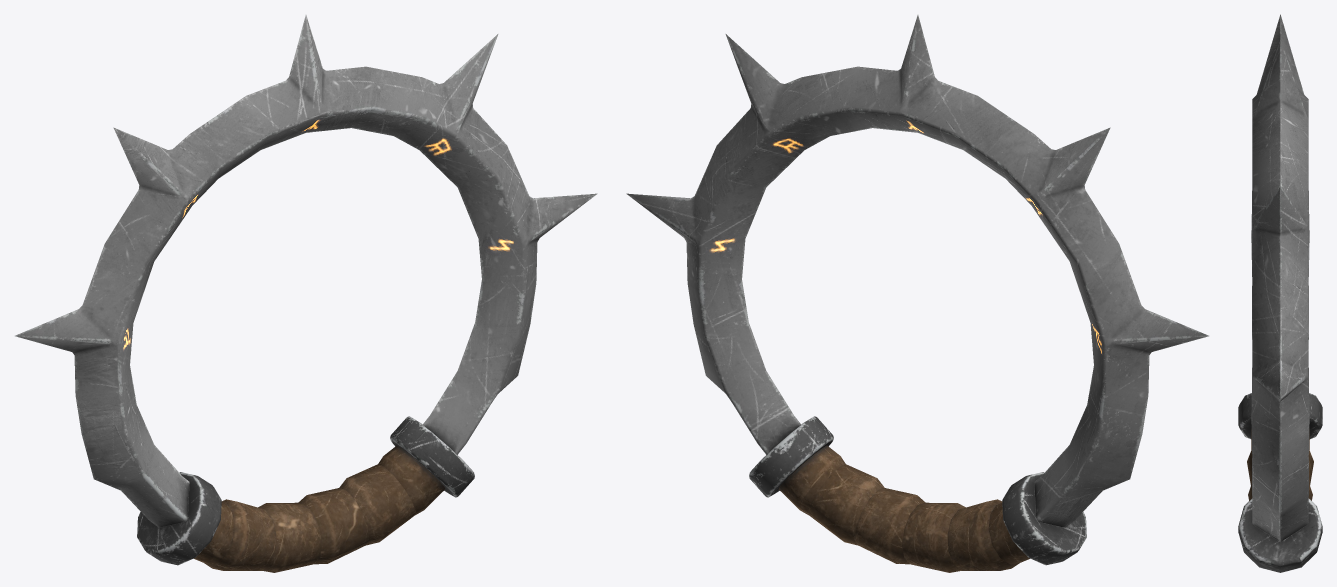
The picture shows the model from 3 angles, left to right: view 1: azimuth 30°, elevation 25°; view 2: azimuth 150°, elevation 25°; view 3: azimuth 270°, elevation 25°; orthographic projection. The views are drawn at different scales.
Visible parts, largest first — view 1: Blade_low, Handle_low, Rings_low; view 2: Blade_low, Handle_low, Rings_low; view 3: Blade_low, Rings_low, Handle_low.
Boxes of the visible parts, x1,y1,x2,y2 form: Blade_low: (15,15,597,527); Handle_low: (194,445,445,572); Rings_low: (137,416,474,565); Blade_low: (626,15,1208,527); Handle_low: (778,445,1029,572); Rings_low: (749,416,1086,565); Blade_low: (1251,14,1309,541); Rings_low: (1238,393,1322,572); Handle_low: (1247,428,1313,500).
Bounding box in the file's own units: 0.6712 × 0.6052 × 0.0918.
1 material, 1 textured.
